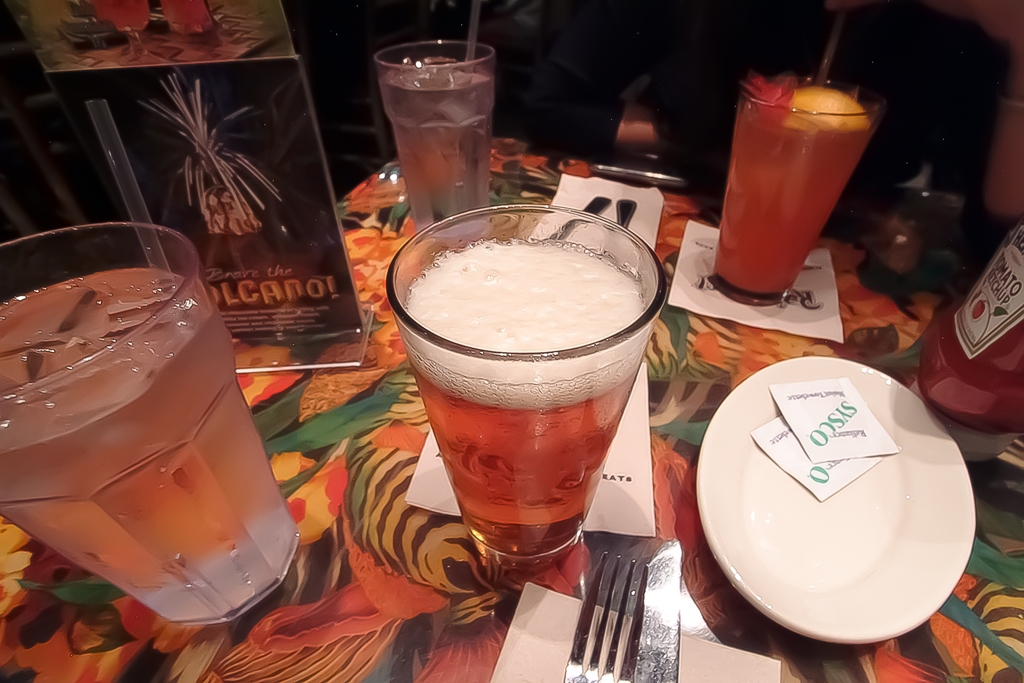Beer: (400, 235, 648, 557), (713, 79, 872, 293)
